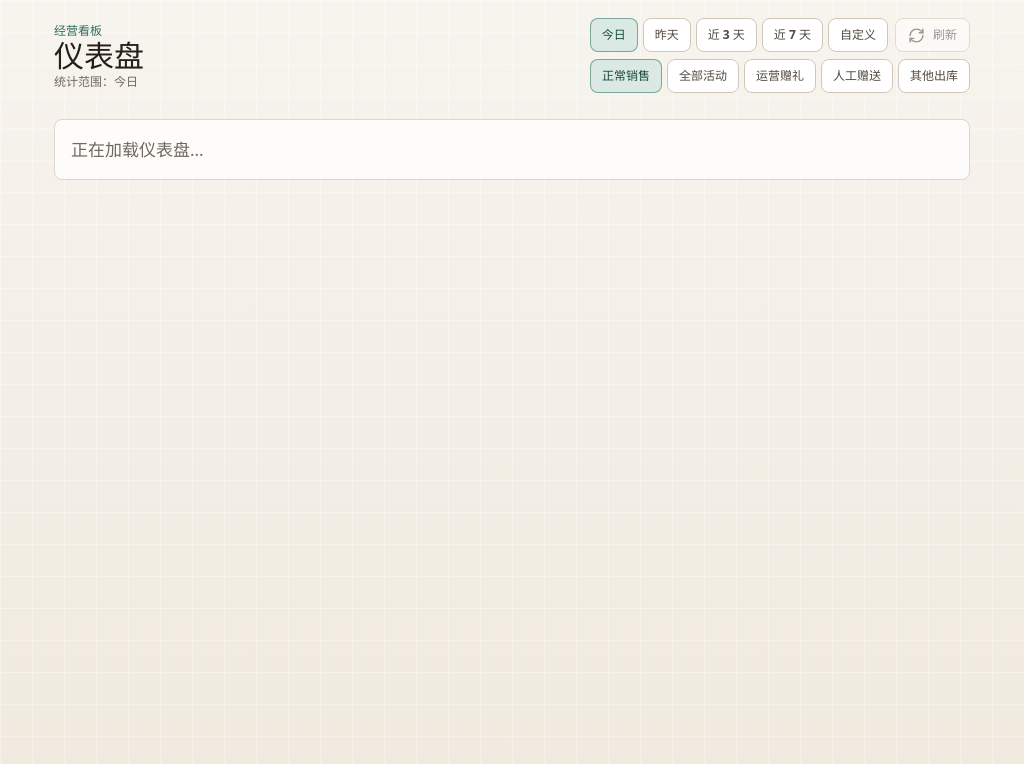
Scenario: groups dashboard filters by time range, custom dates, and accounting scope
The image size is (1024, 764).
Expected: the text "统计范围：今日" is shown, [54,74,144,90]
Click the button "自定义" at (858, 35), box [828,18,888,52]
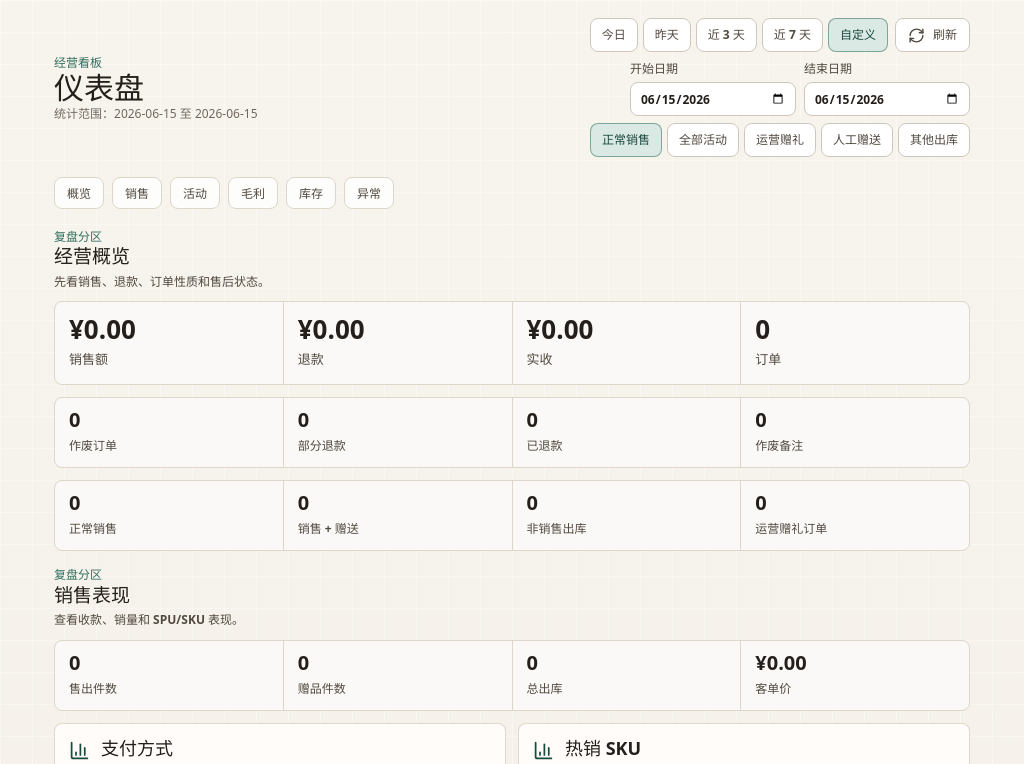
Expected: the element named "自定义日期" is shown, [630,59,970,116]
Expected: the date field labelled "开始日期" holds "2026-06-15"
Expected: the date field labelled "结束日期" holds "2026-06-15", [804,82,970,116]
Type "2026-06-12" into the date field labelled "开始日期" at (713, 99), box [630,82,796,116]
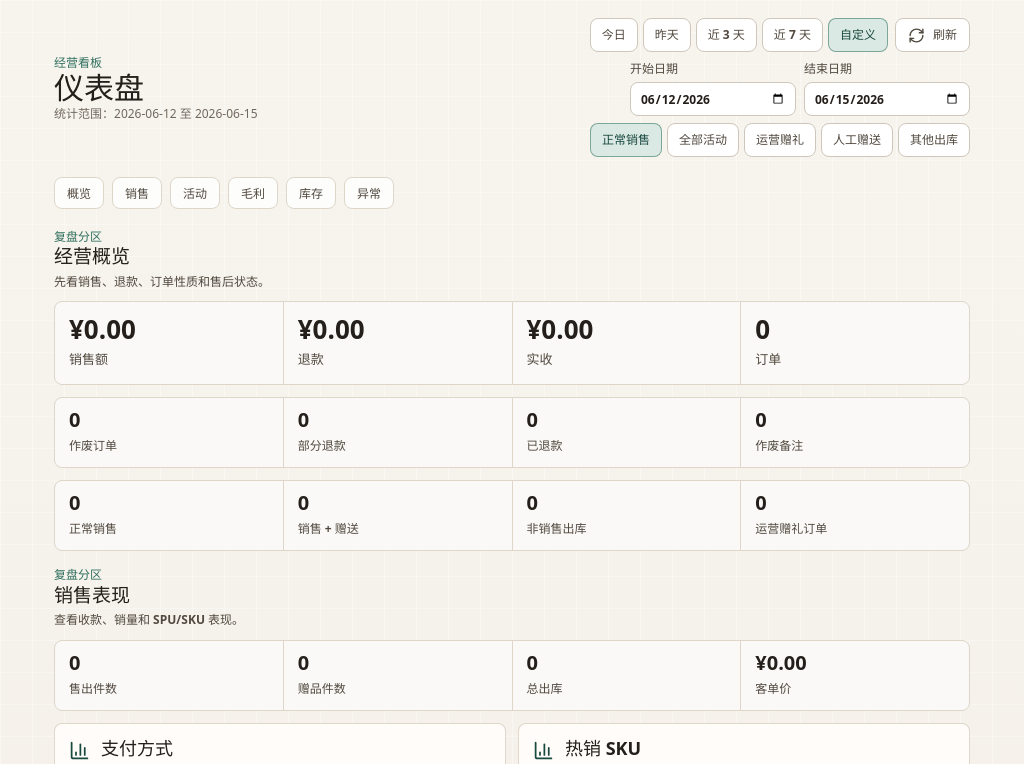
Type "2026-06-12" into the date field labelled "结束日期" at (887, 99), box [804,82,970,116]
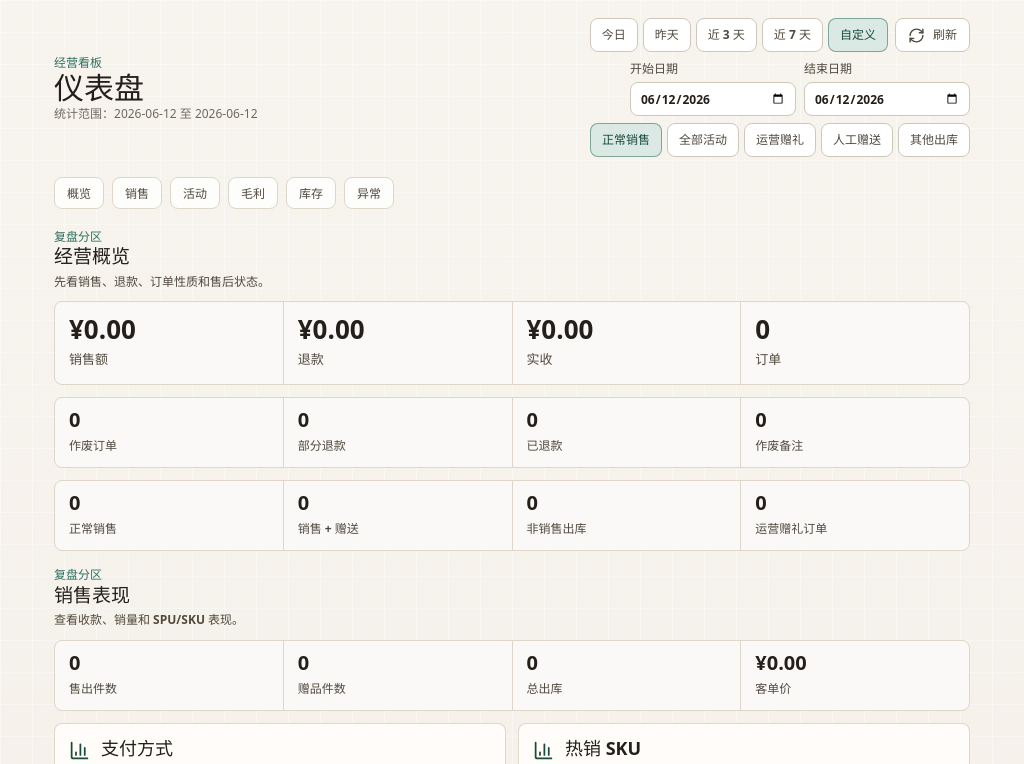
Expected: the text "统计范围：2026-06-12 至 2026-06-12" is shown, [54,106,258,122]
